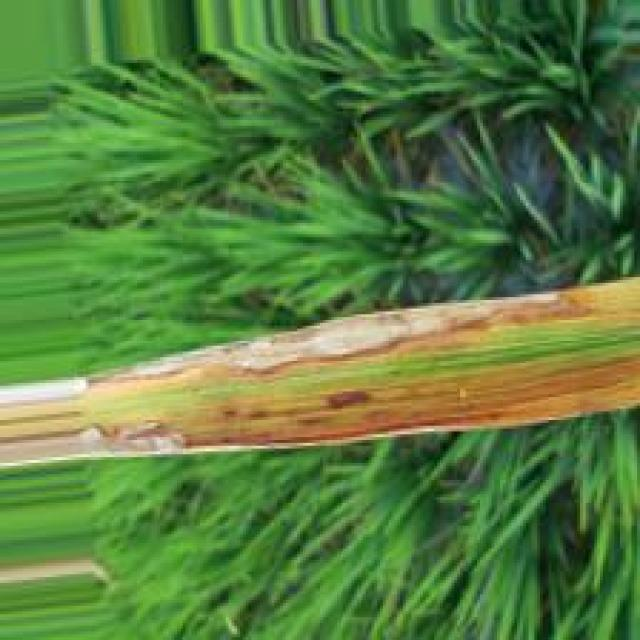Bacterial_Leaf_Blight: (0, 292, 601, 472)
